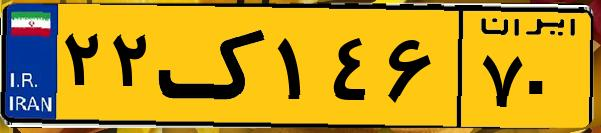0: (525, 38, 570, 115)
1: (270, 28, 330, 110)
2: (57, 26, 110, 100), (110, 28, 158, 98)
4: (330, 28, 385, 110)
6: (385, 28, 445, 110)
7: (475, 38, 525, 113)
ک: (158, 12, 270, 120)
